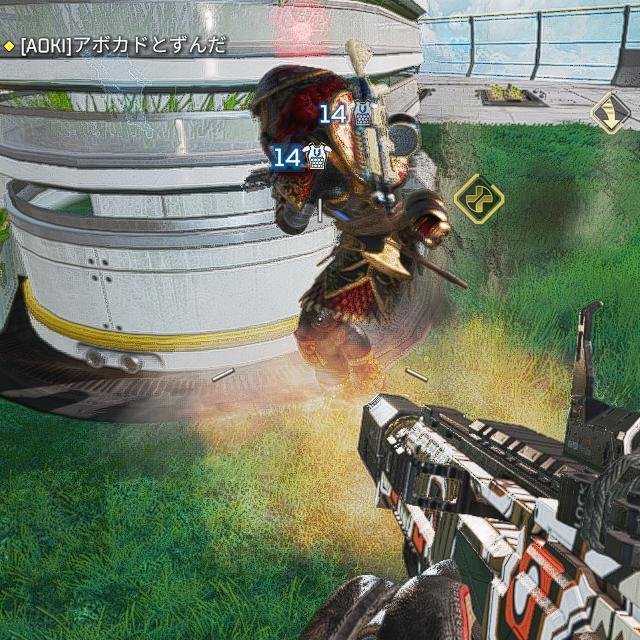avatar: (246, 60, 449, 382)
